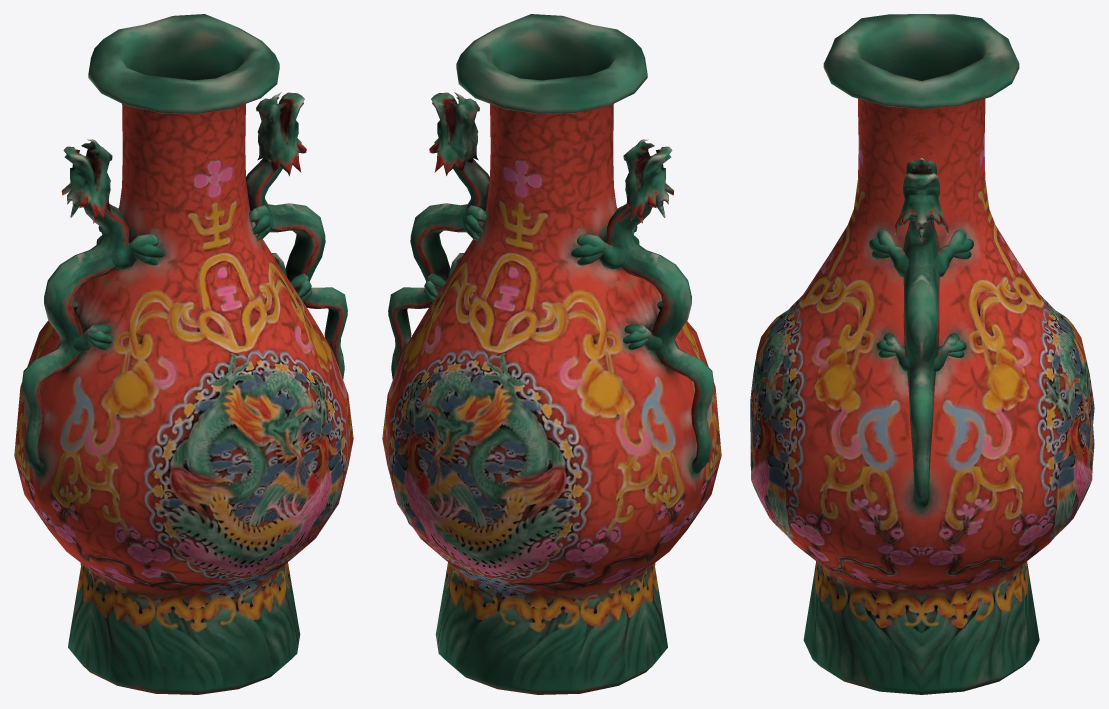
The model's file is vase.glb.
3 renders of one model, left to right at view 1: azimuth 30°, elevation 25°; view 2: azimuth 150°, elevation 25°; view 3: azimuth 270°, elevation 25°, orthographic.
Parts seen in each view (by area): view 1: QBlock.006_Material_0; view 2: QBlock.006_Material_0; view 3: QBlock.006_Material_0.
Boxes of the visible parts, x1=… form: QBlock.006_Material_0: x1=14, y1=14, x2=353, y2=694; QBlock.006_Material_0: x1=382, y1=14, x2=721, y2=694; QBlock.006_Material_0: x1=750, y1=14, x2=1094, y2=694.
Bounding box in the file's own units: 0.4593 × 0.8092 × 0.4164.
Materials: 1 (1 with a texture image).
